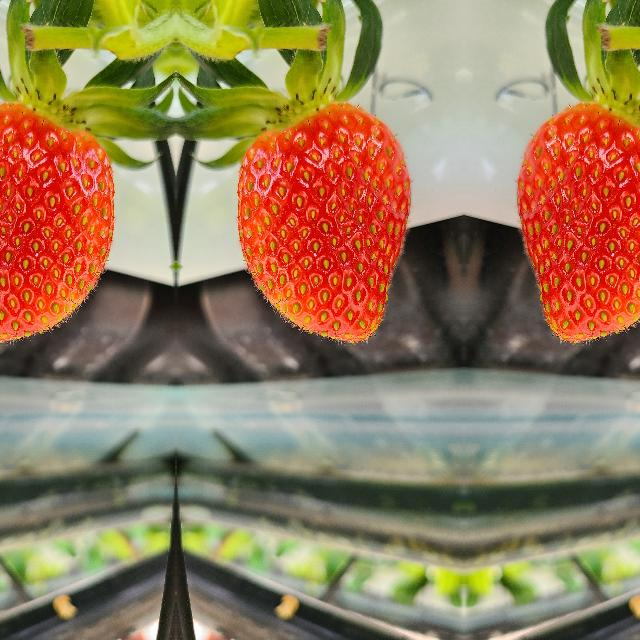Health_100: (234, 100, 412, 346), (514, 100, 640, 345), (0, 100, 116, 345)
